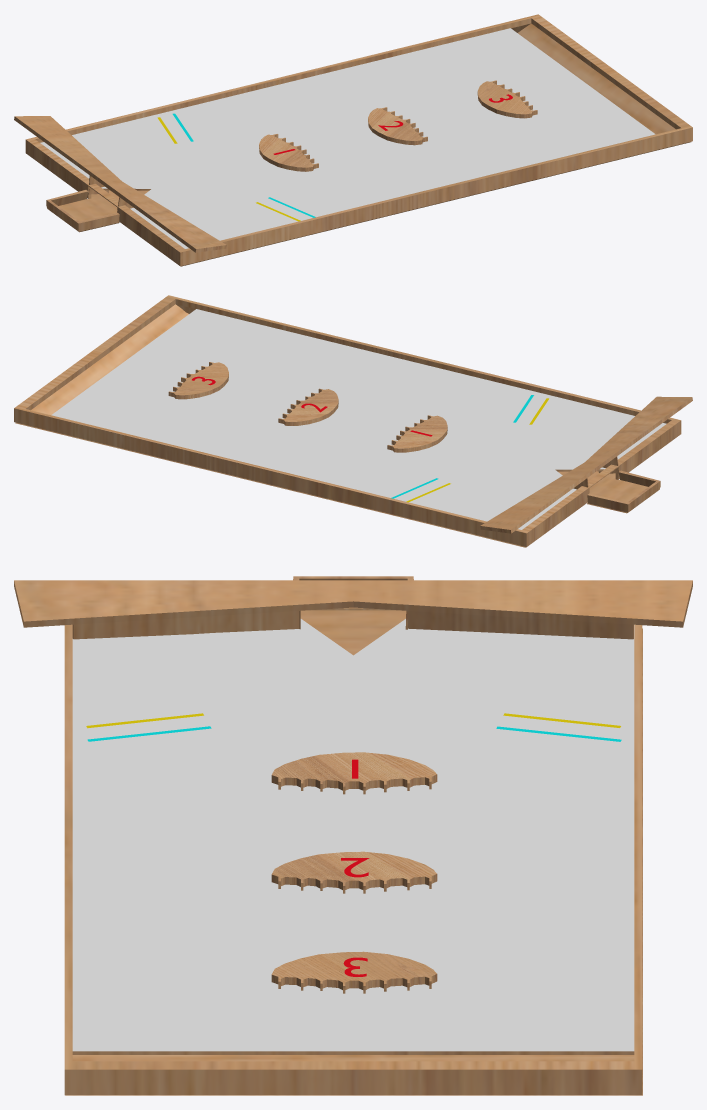
File: yoTyanTableV4.fbx
The picture shows the model from 3 angles, top to bottom: view 1: azimuth 30°, elevation 25°; view 2: azimuth 150°, elevation 25°; view 3: azimuth 270°, elevation 25°; orthographic projection. The views are drawn at different scales.
Visible parts, largest first — view 1: yoTyanTable.003, BallZone.003, SlotPlates.012, SlotPlates.010, SlotPlates.011; view 2: yoTyanTable.003, BallZone.003, SlotPlates.012, SlotPlates.011, SlotPlates.010; view 3: yoTyanTable.003, BallZone.003, SlotPlates.012, SlotPlates.010, SlotPlates.011.
Boxes of the visible parts, box(x1,y1,x2,y2) form: yoTyanTable.003: box(25, 14, 692, 266); BallZone.003: box(14, 116, 226, 252); SlotPlates.012: box(259, 134, 318, 171); SlotPlates.010: box(477, 80, 537, 118); SlotPlates.011: box(368, 107, 427, 145); yoTyanTable.003: box(14, 295, 681, 547); BallZone.003: box(480, 396, 692, 533); SlotPlates.012: box(387, 415, 447, 452); SlotPlates.011: box(278, 388, 338, 425); SlotPlates.010: box(168, 362, 228, 399); yoTyanTable.003: box(64, 576, 642, 1095); BallZone.003: box(14, 580, 692, 639); SlotPlates.012: box(271, 752, 437, 794); SlotPlates.010: box(271, 951, 437, 993); SlotPlates.011: box(271, 851, 437, 893).
Bounding box in the file's own units: 489 × 23.89 × 278.
Materials: 5 (1 with a texture image).
